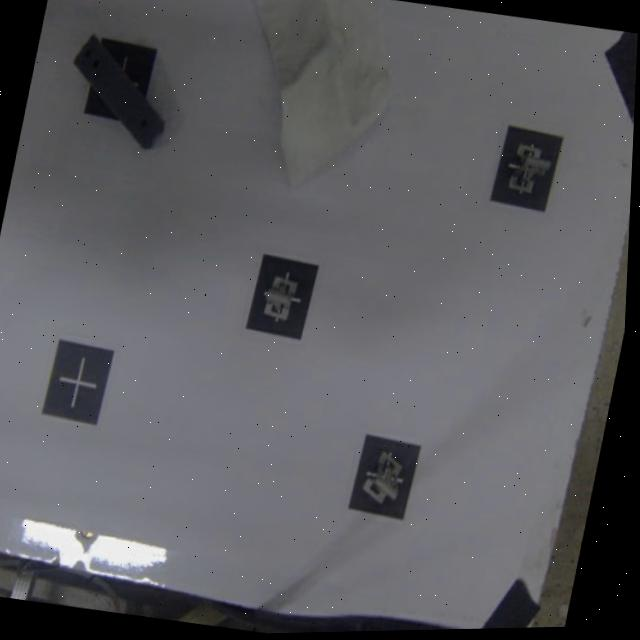pick2: (351, 434, 419, 519)
pick3: (243, 253, 321, 342)
pick5: (491, 120, 565, 212)
